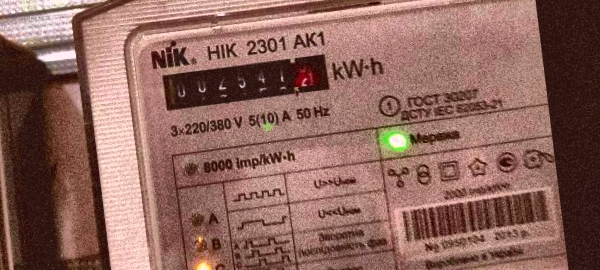0: (193, 72, 208, 95), (173, 77, 188, 99)
1: (274, 61, 287, 85)
2: (213, 69, 230, 92)
4: (254, 63, 267, 85)
5: (233, 66, 249, 91)
6: (297, 74, 310, 87)
screen: (148, 42, 342, 119)
